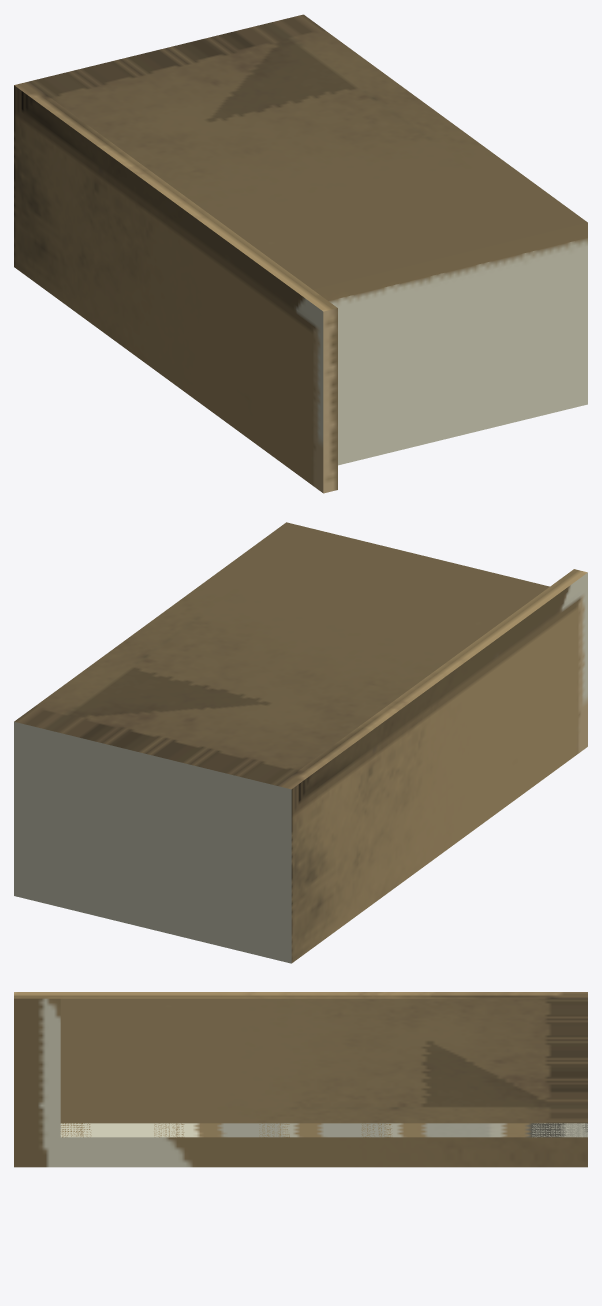
File: pz_g022_location_shop_generic_01_large_shop_shelves_part1.obj
3 views of the same model, one above another, from view 1: azimuth 30°, elevation 25°; view 2: azimuth 150°, elevation 25°; view 3: azimuth 270°, elevation 25° (orthographic). The views are drawn at different scales.
Visible parts, largest first — view 1: rear_panel_front, right_end_right, open_shelf_4_top, right_end_front, rear_panel_top, right_end_top; view 2: rear_panel_front, right_end_right, open_shelf_0_bottom, right_end_front, rear_panel_bottom, right_end_bottom; view 3: rear_panel_front, right_end_left, rear_panel_rear, right_end_front, open_shelf_0_front.
Part boxes in pixels (x1=…): rear_panel_front: x1=29, y1=14, x2=587, y2=289; right_end_right: x1=14, y1=85, x2=323, y2=492; open_shelf_4_top: x1=328, y1=238, x2=587, y2=465; right_end_front: x1=14, y1=81, x2=337, y2=311; rear_panel_top: x1=313, y1=222, x2=587, y2=300; right_end_top: x1=323, y1=308, x2=337, y2=493; rear_panel_front: x1=14, y1=522, x2=549, y2=785; right_end_right: x1=291, y1=572, x2=587, y2=962; open_shelf_0_bottom: x1=14, y1=736, x2=277, y2=960; right_end_front: x1=278, y1=569, x2=587, y2=789; rear_panel_bottom: x1=14, y1=721, x2=277, y2=800; right_end_bottom: x1=277, y1=786, x2=291, y2=963; rear_panel_front: x1=60, y1=998, x2=587, y2=1123; right_end_left: x1=14, y1=998, x2=587, y2=1167; rear_panel_rear: x1=60, y1=1123, x2=587, y2=1137; right_end_front: x1=14, y1=992, x2=587, y2=998; open_shelf_0_front: x1=532, y1=1123, x2=587, y2=1137.
Bounding box in the file's own units: 1 × 0.6 × 1.85.
Materials: 1 (1 with a texture image).
